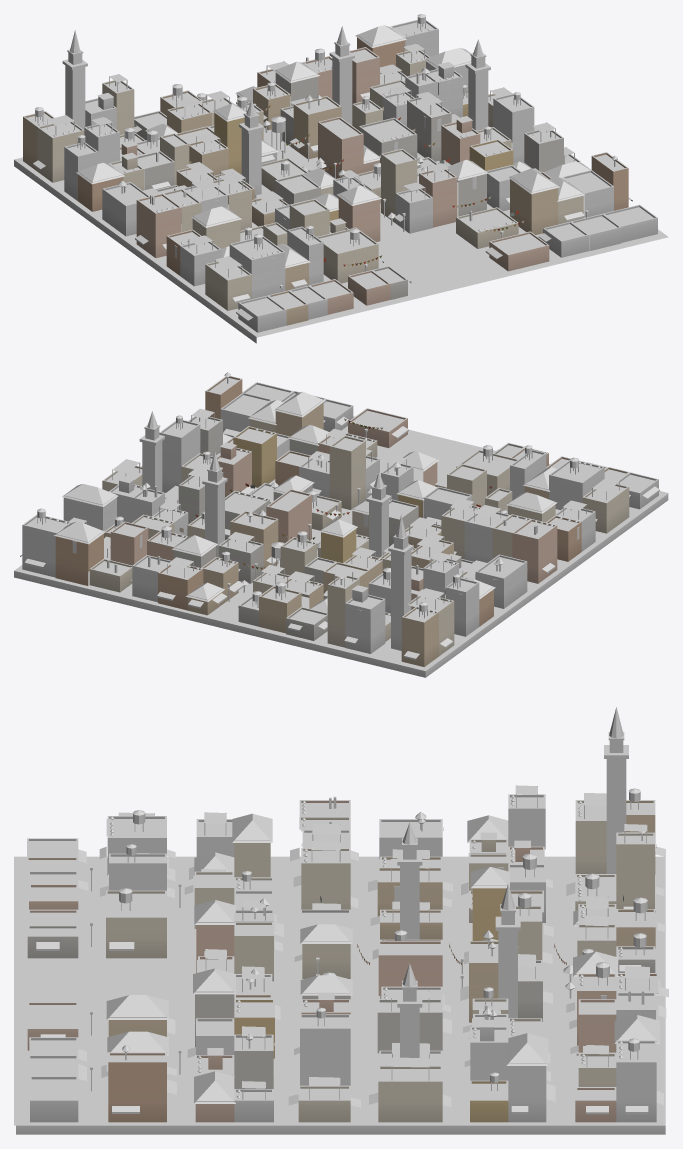
File: ordo_back_mid.glb
3 renders of one model, top to bottom at view 1: azimuth 30°, elevation 25°; view 2: azimuth 150°, elevation 25°; view 3: azimuth 270°, elevation 25°, orthographic. The views are drawn at different scales.
Parts seen in each view (by area): view 1: ordo_back_mid; view 2: ordo_back_mid; view 3: ordo_back_mid.
Part boxes in pixels (x1,y1,x2,y2): ordo_back_mid: (14, 14, 668, 343); ordo_back_mid: (14, 372, 668, 677); ordo_back_mid: (14, 707, 668, 1134).
Size of the model in its own units: 97.23 by 31.44 by 99.8.
